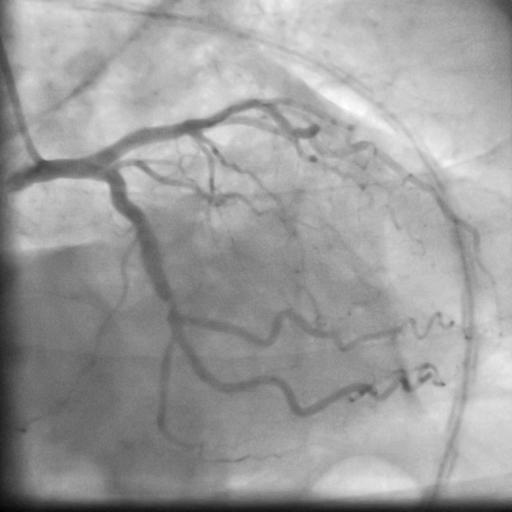Stenosis: (158, 293, 178, 314)
